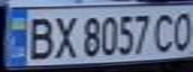0: (100, 12, 118, 56)
5: (118, 11, 136, 56)
7: (133, 11, 154, 54)
8: (78, 12, 103, 57)
B: (21, 14, 57, 61)
C: (151, 10, 178, 53)
O: (172, 8, 193, 52)
X: (48, 12, 78, 60)
